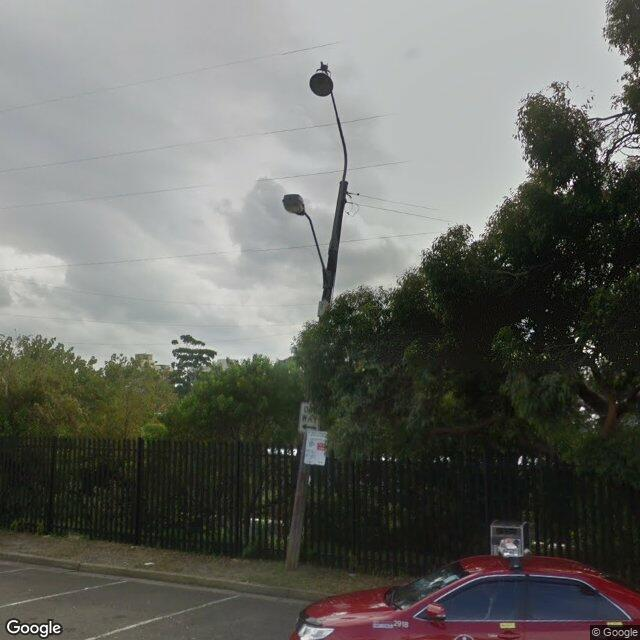streetlight: (310, 61, 348, 254), (283, 194, 333, 289)
timber-pole: (286, 181, 348, 570)
